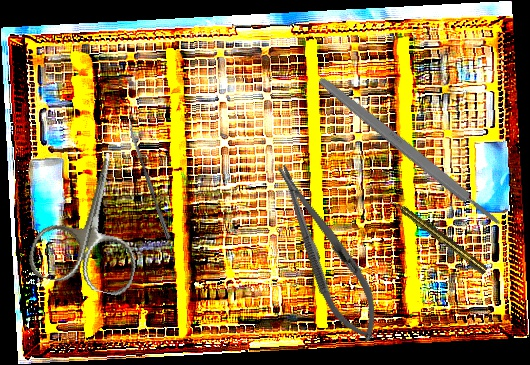Handpiece: (388, 196, 489, 276)
Iris Scissors: (25, 140, 161, 299)
Needle Holder: (260, 154, 393, 351)
Scalpel Handle: (315, 73, 504, 230)
Surgical Spoon: (126, 121, 172, 240)
